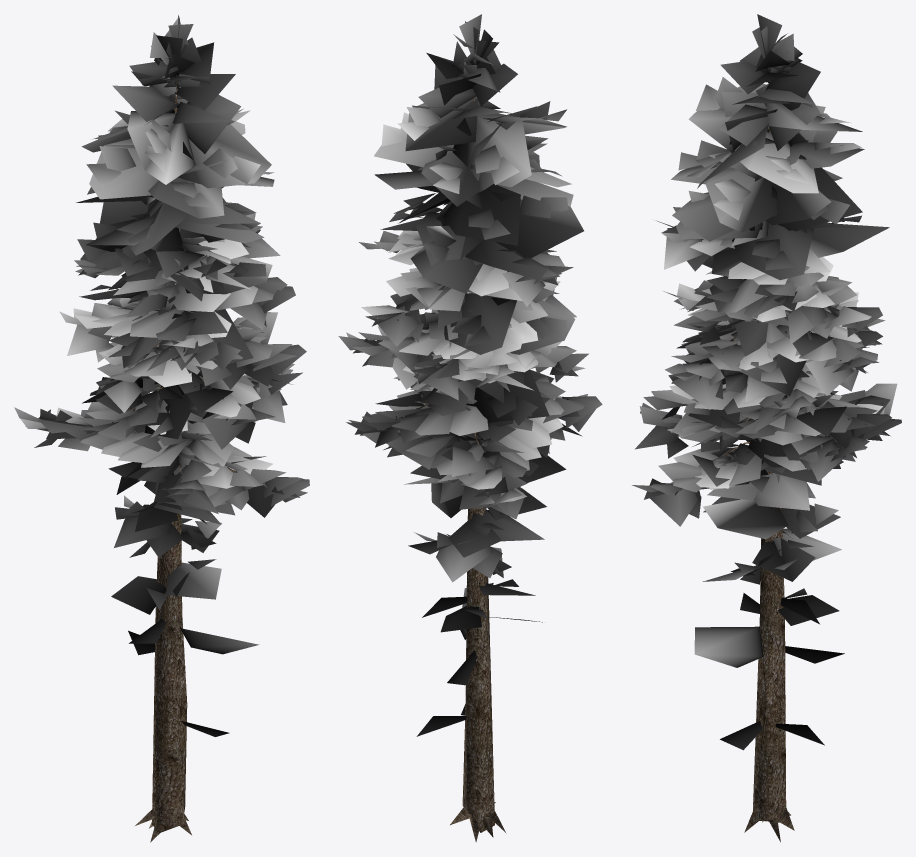
File: Fir_05.FBX
The picture shows the model from 3 angles, left to right: view 1: azimuth 30°, elevation 25°; view 2: azimuth 150°, elevation 25°; view 3: azimuth 270°, elevation 25°; orthographic projection.
Visible parts, largest first — view 1: Forest_Tree_05; view 2: Forest_Tree_05; view 3: Forest_Tree_05.
Boxes of the visible parts, x1,y1,x2,y2 form: Forest_Tree_05: (14,15,309,842); Forest_Tree_05: (338,14,602,842); Forest_Tree_05: (632,14,901,842).
Bounding box in the file's own units: 531 × 1818 × 542.
